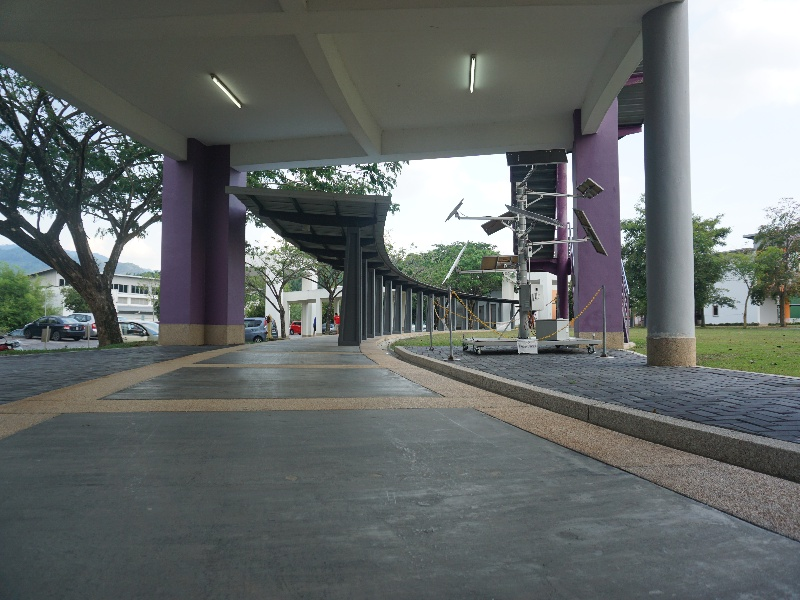Block D Pillar 5: (2, 3, 800, 503)
pillar: (147, 124, 268, 364), (634, 3, 709, 390), (557, 83, 629, 354), (333, 221, 371, 347)
